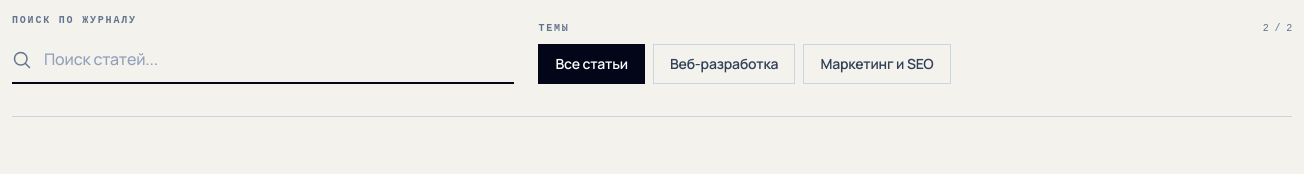
BlogFilters Component › очищает поисковый запрос
Type "тест" into the search field with placeholder "Поиск статей..." at x=263, y=60, box [12,36,514,84]
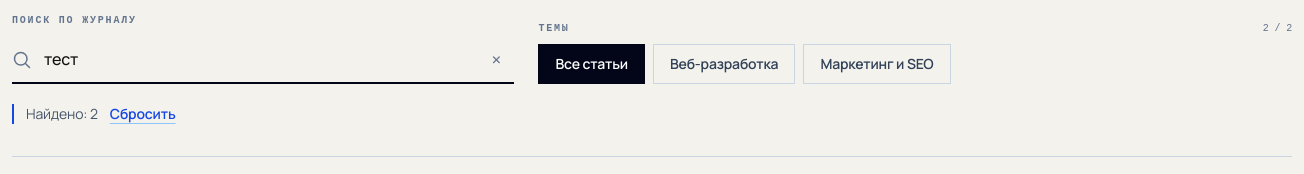
// Ищем кнопку очистки
Click the button labelled "×" at x=496, y=60, box [478,42,514,78]
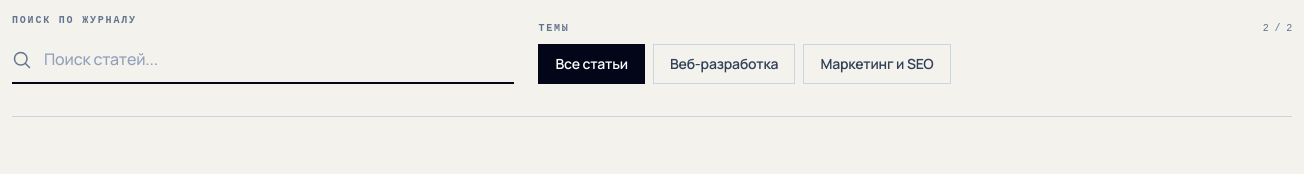
Check: the search field with placeholder "Поиск статей..." is empty, box [12,36,514,84]
